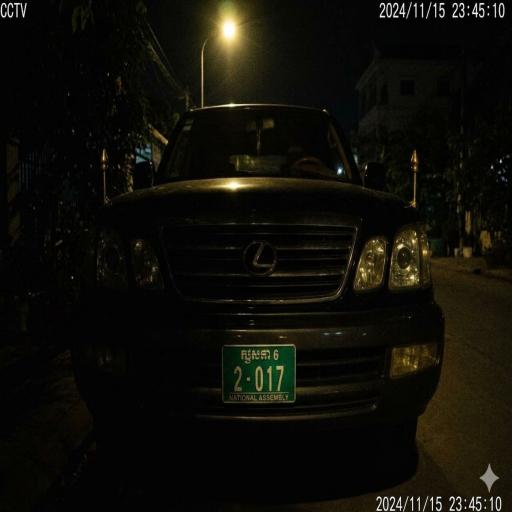Plate Number: (221, 343, 297, 404)
